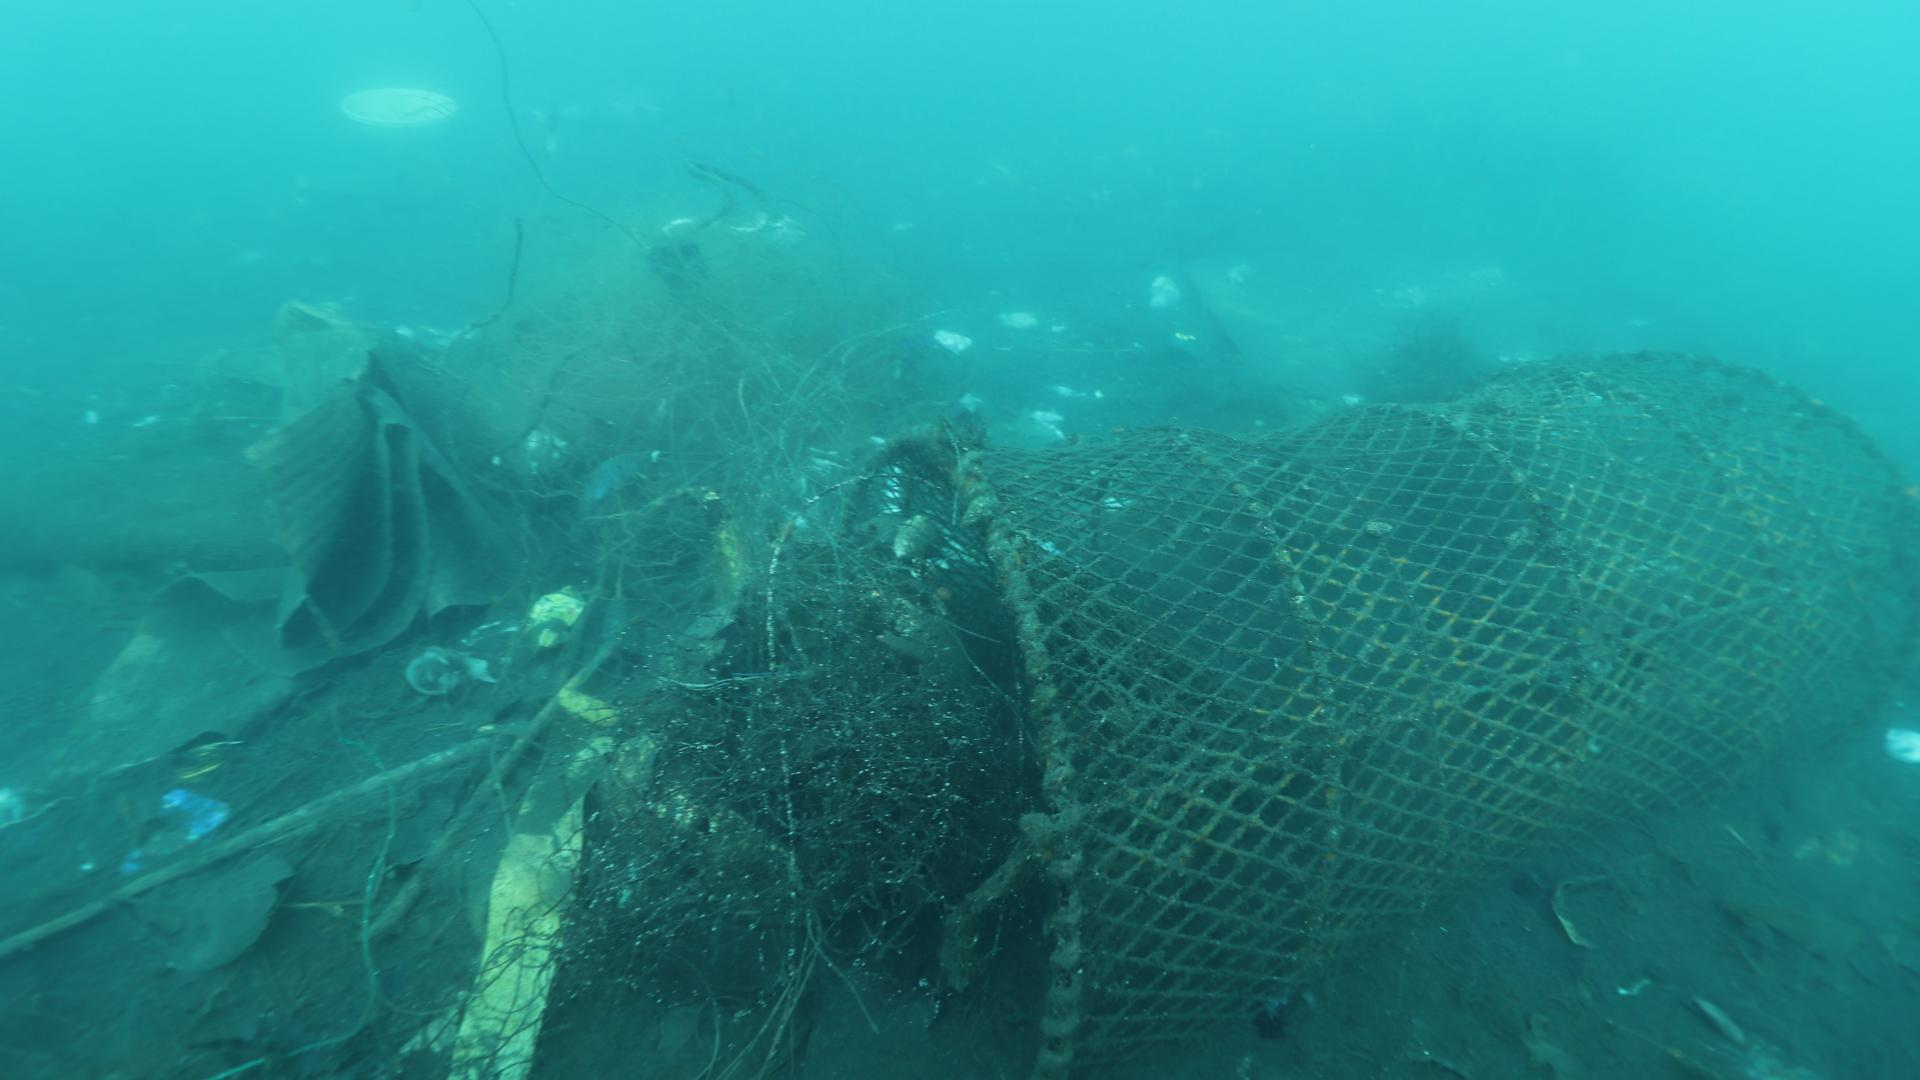spring fish trap: (833, 353, 1920, 1080)
